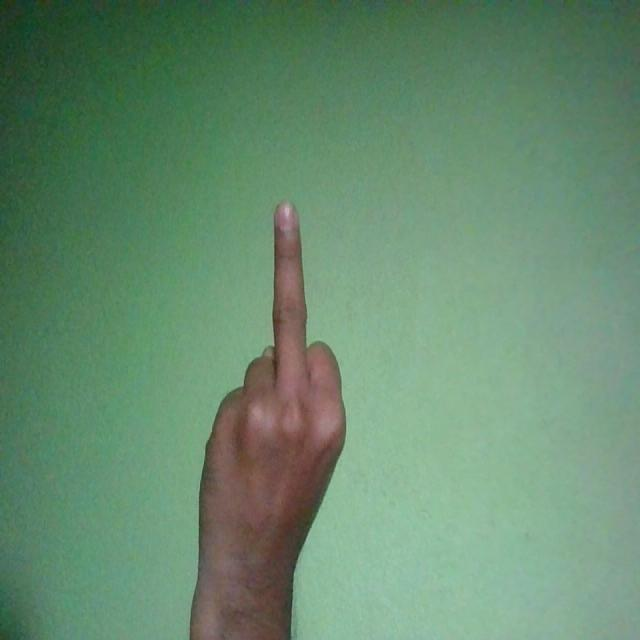Middle Finger: (198, 197, 347, 624)
